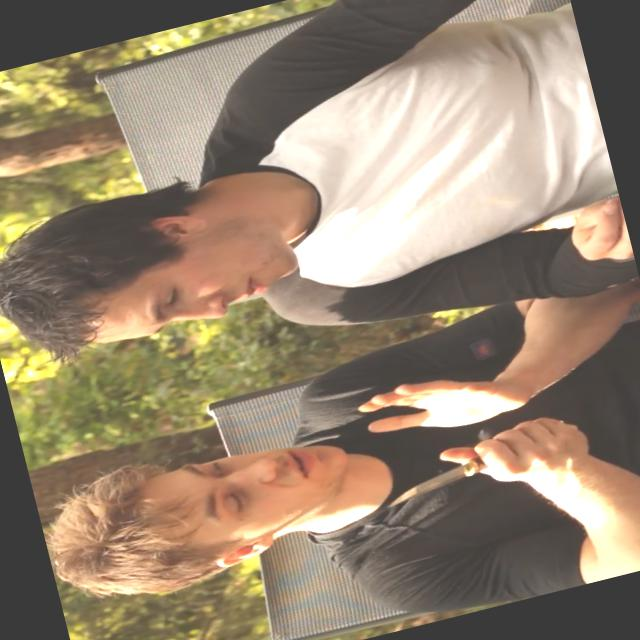knife: (354, 410, 562, 528)
